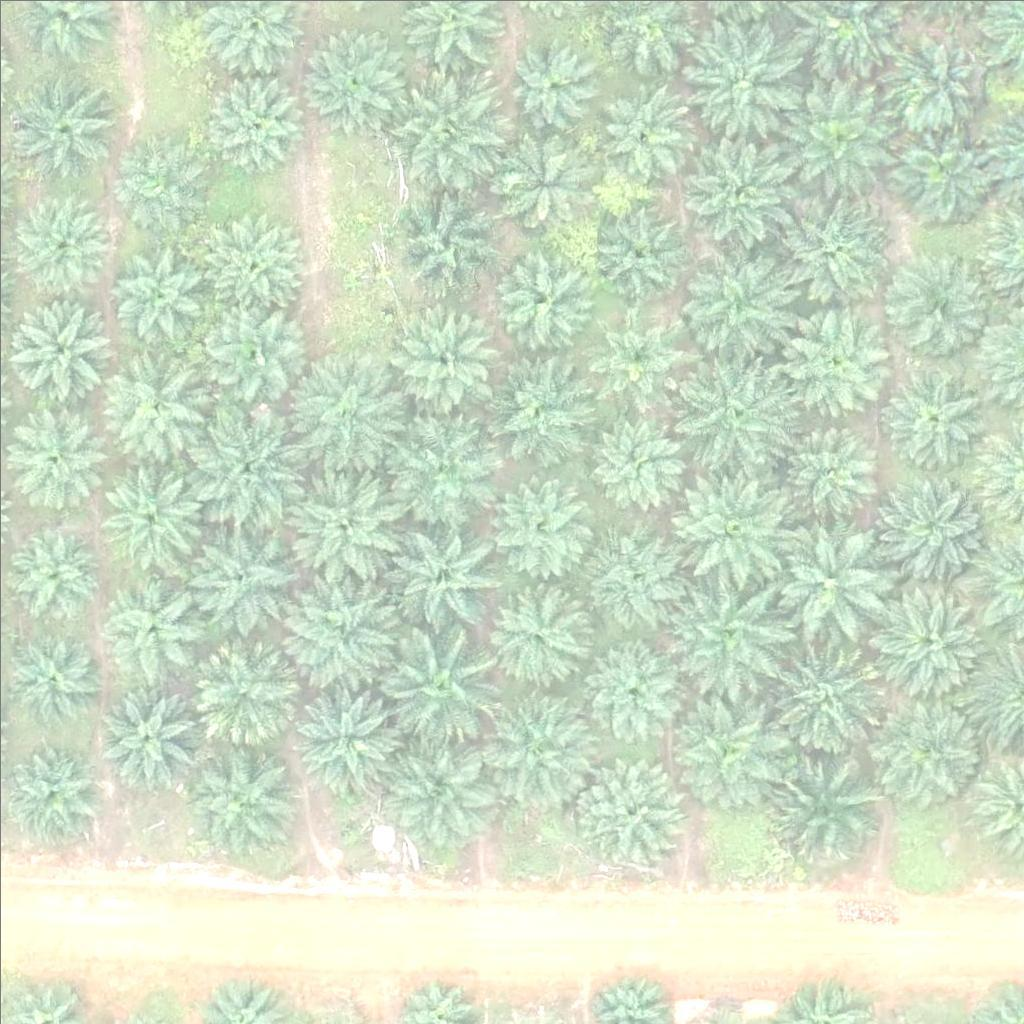Kelapa_Sawit: (297, 23, 410, 137), (184, 745, 297, 859), (286, 681, 399, 795), (286, 472, 399, 586), (387, 412, 500, 526), (670, 471, 783, 585), (773, 527, 886, 641), (101, 355, 214, 468), (192, 418, 305, 531), (188, 632, 301, 745), (290, 568, 403, 681), (293, 354, 406, 467), (380, 631, 493, 744), (482, 357, 595, 470), (390, 61, 503, 174), (573, 750, 686, 863), (675, 689, 788, 802), (690, 13, 803, 126), (783, 81, 896, 194), (776, 197, 889, 310), (784, 308, 897, 421), (872, 693, 985, 806), (871, 589, 984, 702), (878, 357, 991, 470), (883, 249, 996, 362), (886, 115, 999, 228), (100, 565, 212, 679), (186, 521, 298, 635), (477, 692, 589, 806), (676, 242, 788, 356), (381, 293, 493, 406), (387, 518, 499, 631), (383, 730, 495, 843), (393, 190, 505, 303), (583, 522, 695, 635), (673, 574, 785, 687), (677, 354, 789, 467), (680, 137, 792, 250), (764, 753, 876, 866), (771, 642, 883, 755), (878, 464, 990, 577), (9, 78, 109, 179), (15, 192, 115, 293), (8, 299, 108, 400), (2, 740, 102, 841), (99, 682, 199, 783), (101, 462, 201, 563), (109, 133, 209, 234), (199, 68, 299, 169), (204, 305, 304, 406), (487, 589, 587, 690), (487, 243, 587, 344), (491, 132, 591, 233), (584, 208, 684, 309), (590, 416, 690, 517), (585, 648, 685, 749), (883, 30, 983, 131), (1, 406, 101, 506), (4, 522, 104, 622), (1, 627, 101, 727), (108, 243, 208, 343), (200, 215, 300, 315), (488, 479, 588, 579), (591, 85, 691, 185), (585, 310, 685, 410), (781, 421, 881, 521), (510, 39, 597, 127)
